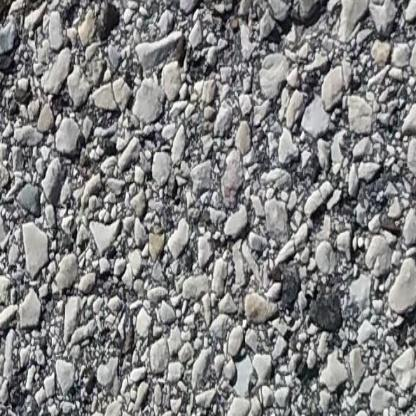Cracks: (0, 0, 49, 19)
